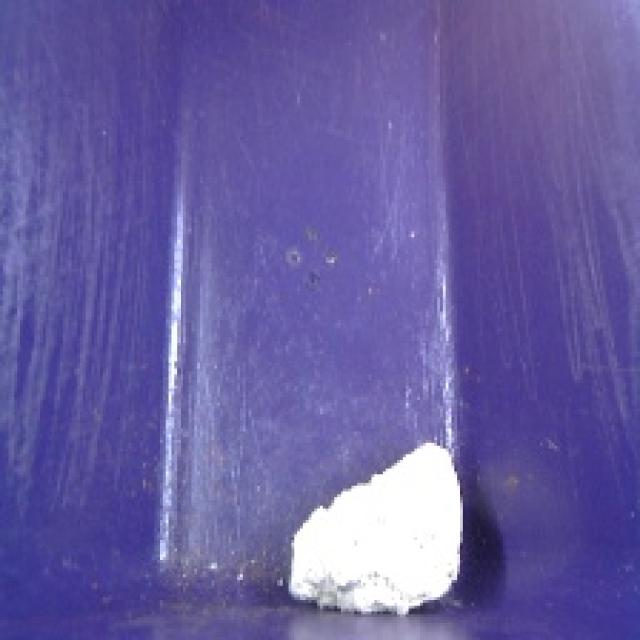brick: (275, 432, 468, 622)
